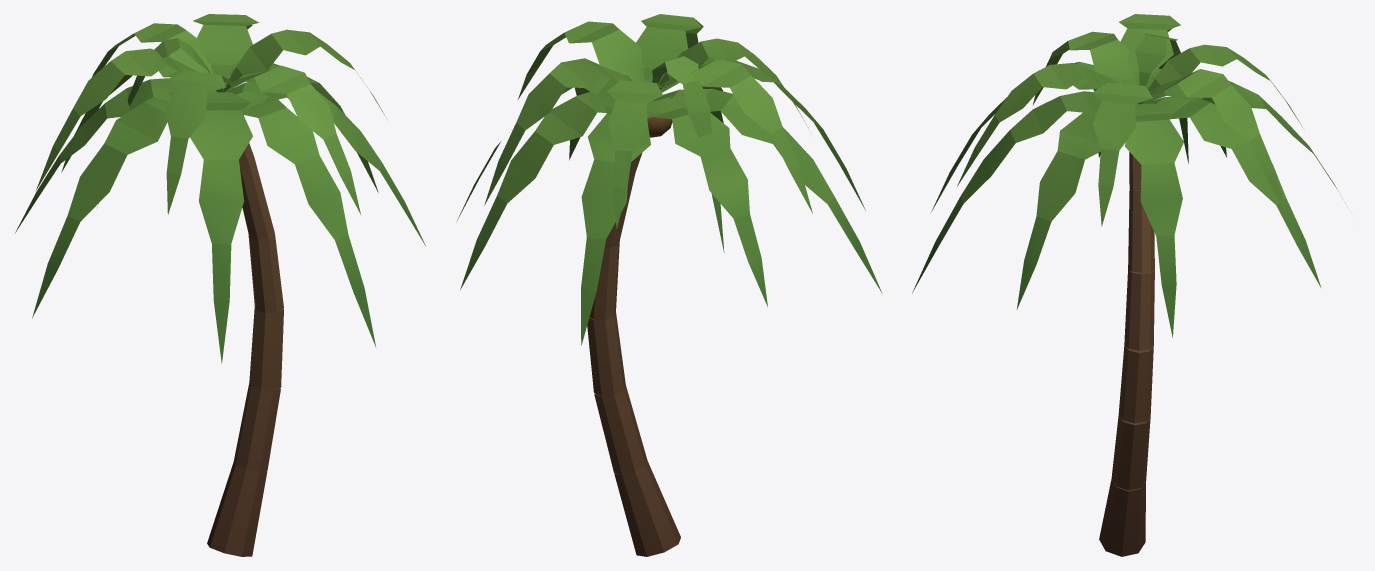
File: palm-1.glb
The picture shows the model from 3 angles, left to right: view 1: azimuth 30°, elevation 25°; view 2: azimuth 150°, elevation 25°; view 3: azimuth 270°, elevation 25°; orthographic projection. The views are drawn at different scales.
Parts seen in each view (by area): view 1: leaf, bark; view 2: leaf, bark; view 3: leaf, bark.
Part boxes in pixels (x1,y1,x2,y2): leaf: (15,14,425,363); bark: (207,143,283,556); leaf: (456,14,882,345); bark: (587,152,680,556); leaf: (912,14,1342,337); bark: (1099,152,1154,556).
Bounding box in the file's own units: 5.56 × 7.03 × 5.78.
